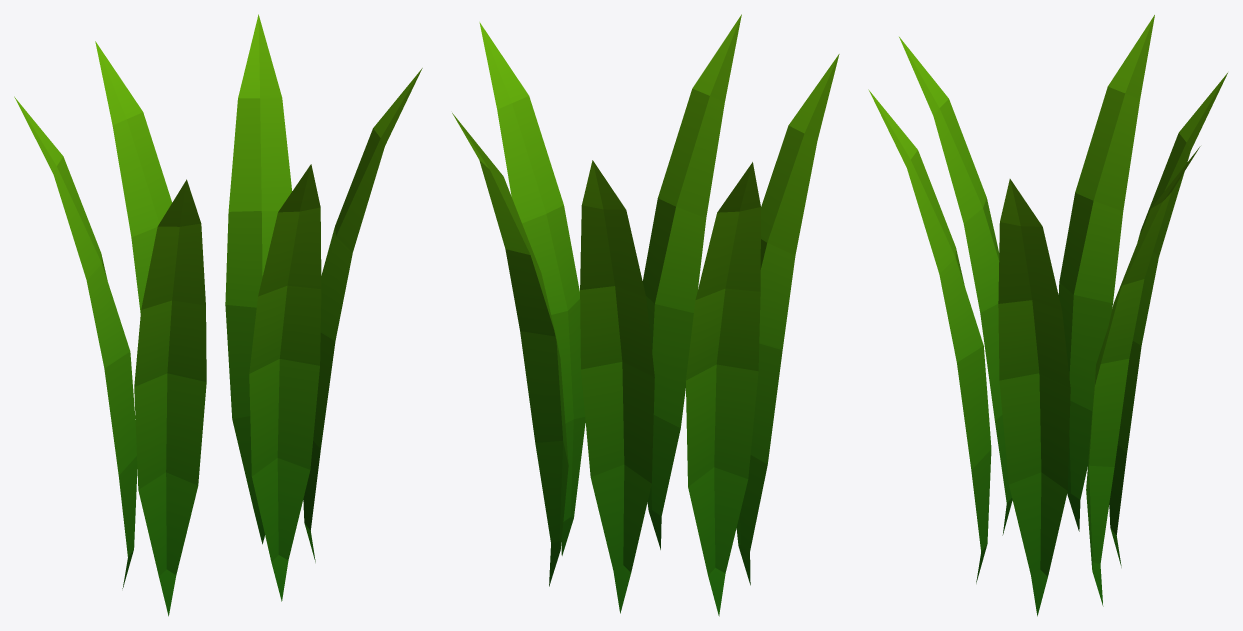
File: grass_10.fbx
3 views of the same model, side by side, from view 1: azimuth 30°, elevation 25°; view 2: azimuth 150°, elevation 25°; view 3: azimuth 270°, elevation 25° (orthographic). The views are drawn at different scales.
Parts seen in each view (by area): view 1: grass_10; view 2: grass_10; view 3: grass_10.
Boxes of the visible parts, x1,y1,x2,y2 form: grass_10: (14,14,422,616); grass_10: (452,14,839,616); grass_10: (868,15,1227,616).
Bounding box in the file's own units: 0.4209 × 0.5788 × 0.3904.
